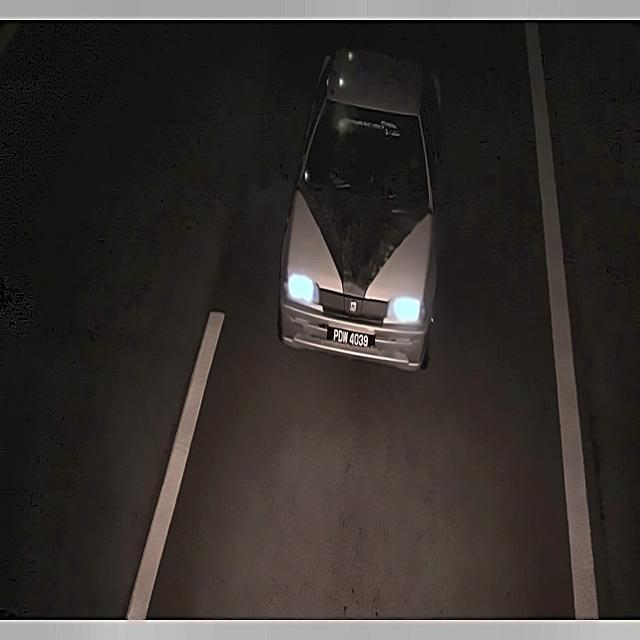car: (323, 321, 377, 356)
